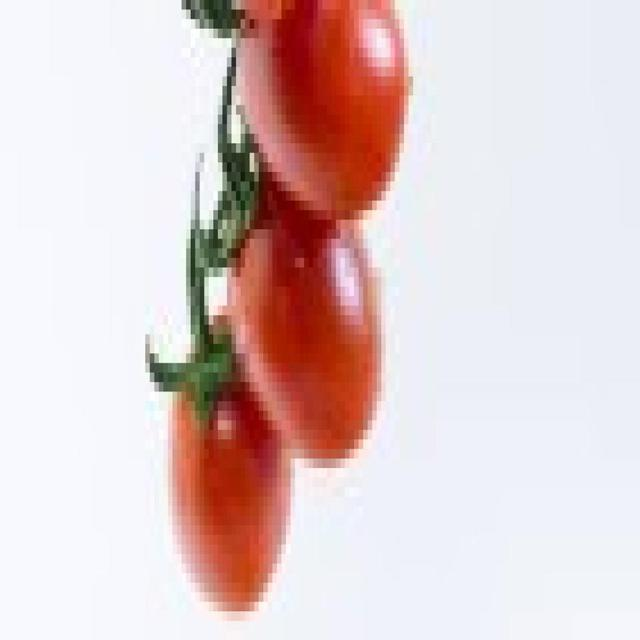Healthy Fruit: (88, 72, 213, 318)
